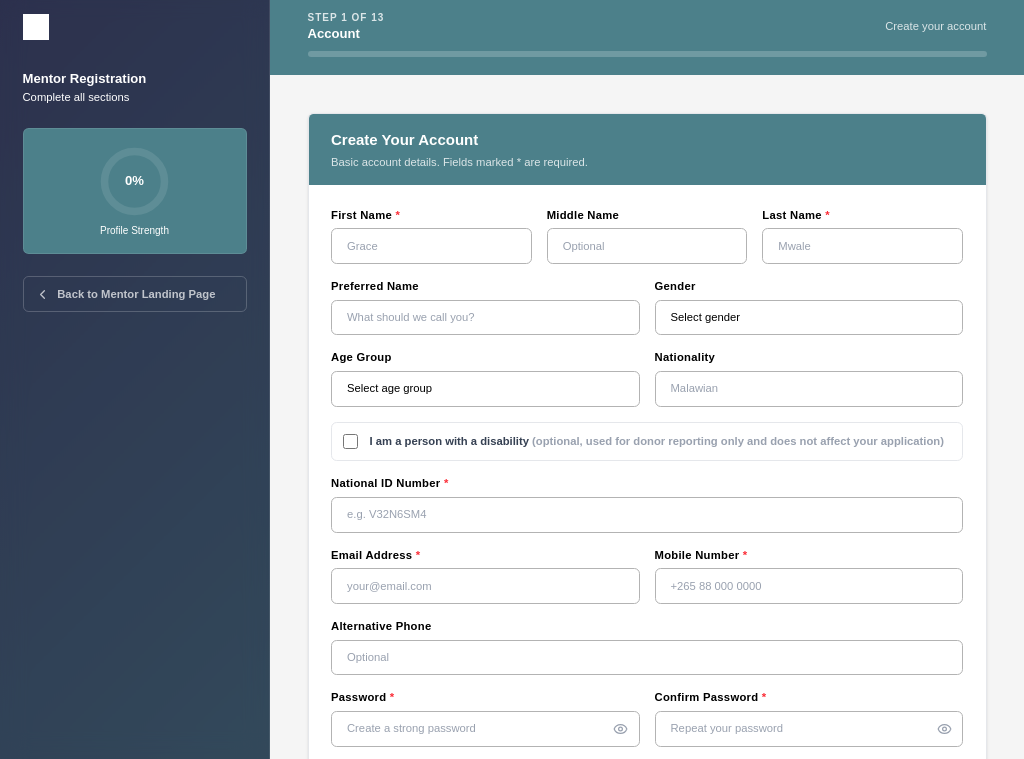
Test: mentor registration rejects duplicates right away › same National ID as an application already in the system, even with a new email and phone
The image size is (1024, 759).
Type "different@example.com" into the field with placeholder "your@email.com" at x=485, y=586, box [331,568,640,604]
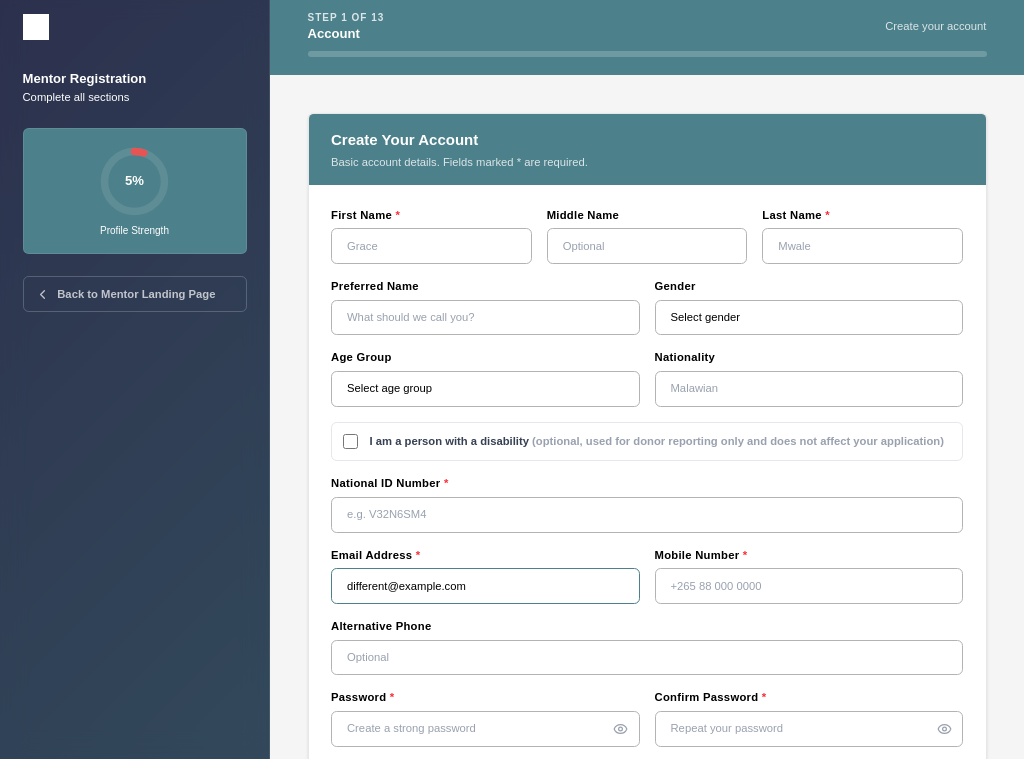
Type "0888 222 333" into the field with placeholder "+265 88 000 0000" at x=809, y=586, box [654,568,963,604]
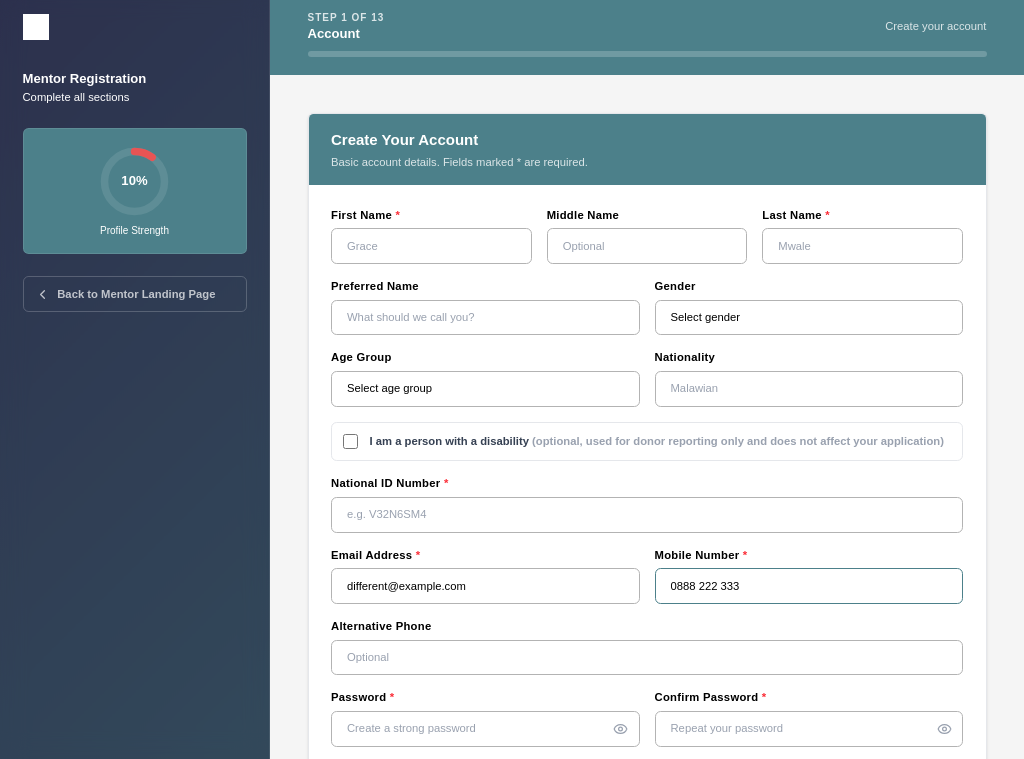
Type "kr 482-139" into the field with placeholder "e.g. V32N6SM4" at x=647, y=515, box [331,497,963,533]
(page scrolled)
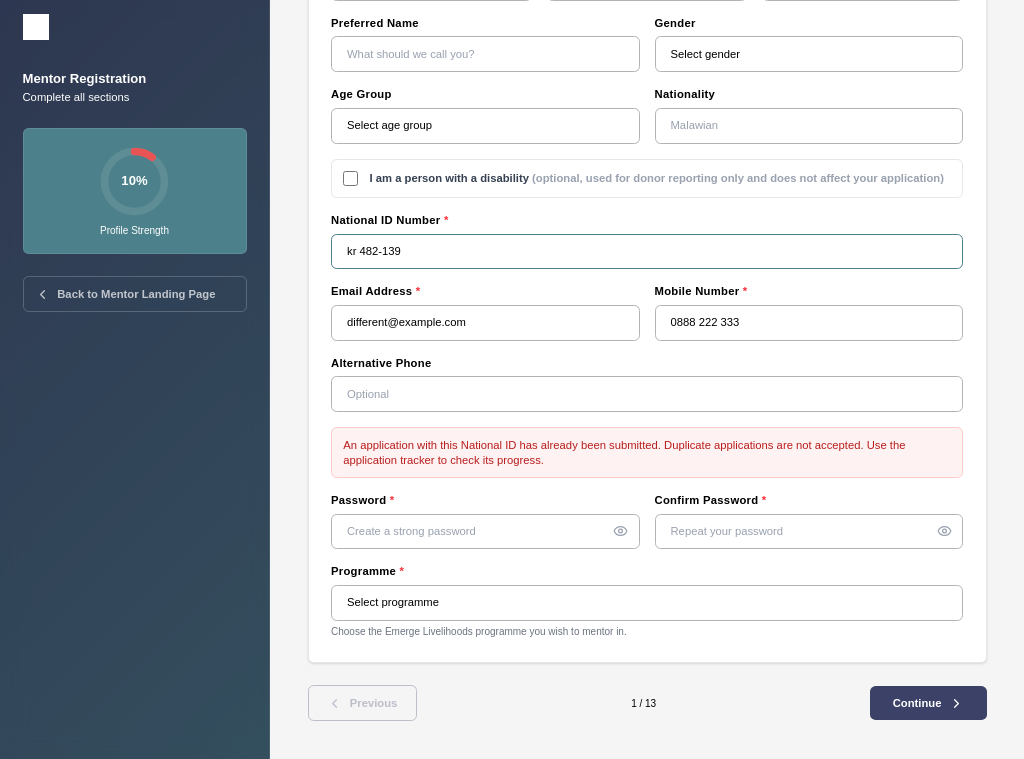
Result: the message shows "National ID has already been submitted" at [343,438,906,466]
